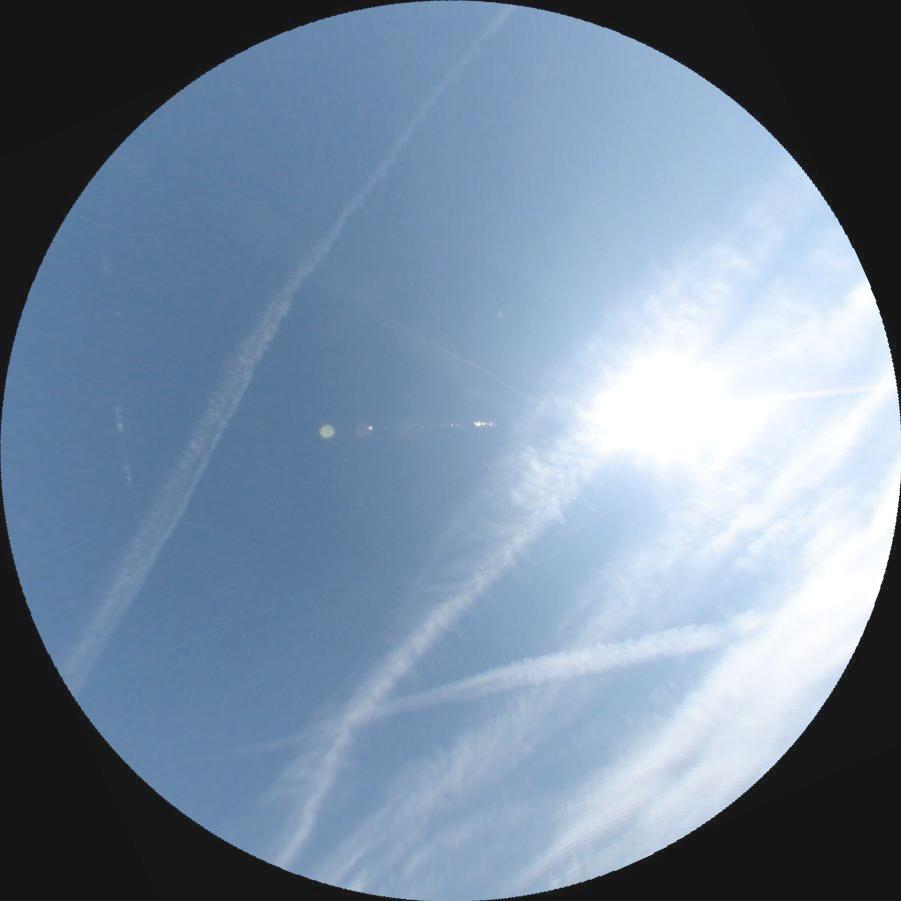contrail veryold: (198, 123, 834, 871), (33, 0, 518, 700), (238, 600, 778, 756)
contrail young: (470, 454, 493, 470)
parasite: (84, 581, 328, 682), (726, 378, 895, 408), (111, 403, 133, 484)
sun: (629, 365, 727, 439)
unknow: (355, 296, 542, 407)
